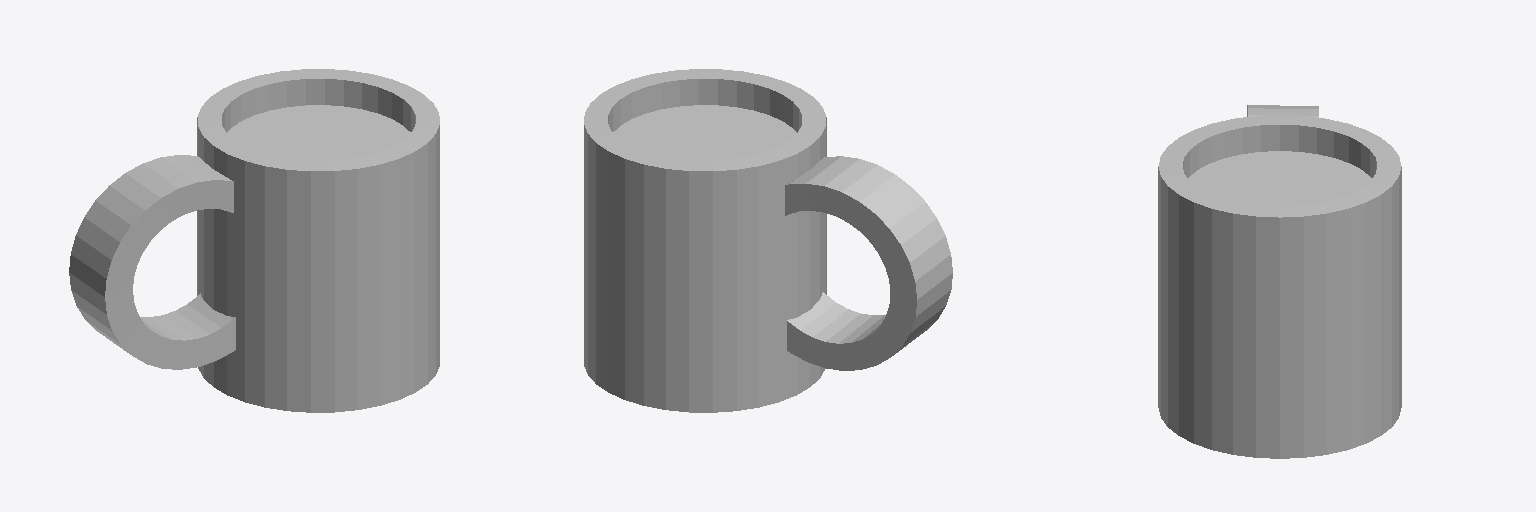
Rendered from mug_gr.obj.
The picture shows the model from 3 angles: view 1: azimuth 30°, elevation 25°; view 2: azimuth 150°, elevation 25°; view 3: azimuth 270°, elevation 25°; orthographic projection.
Parts seen in each view (by area): view 1: coffee_cup_Cylinder.001; view 2: coffee_cup_Cylinder.001; view 3: coffee_cup_Cylinder.001.
Boxes of the visible parts, x1,y1,x2,y2 form: coffee_cup_Cylinder.001: [69, 69, 439, 412]; coffee_cup_Cylinder.001: [584, 69, 952, 412]; coffee_cup_Cylinder.001: [1158, 105, 1401, 458].
Bounding box in the file's own units: 1.21 × 0.8344 × 0.7605.